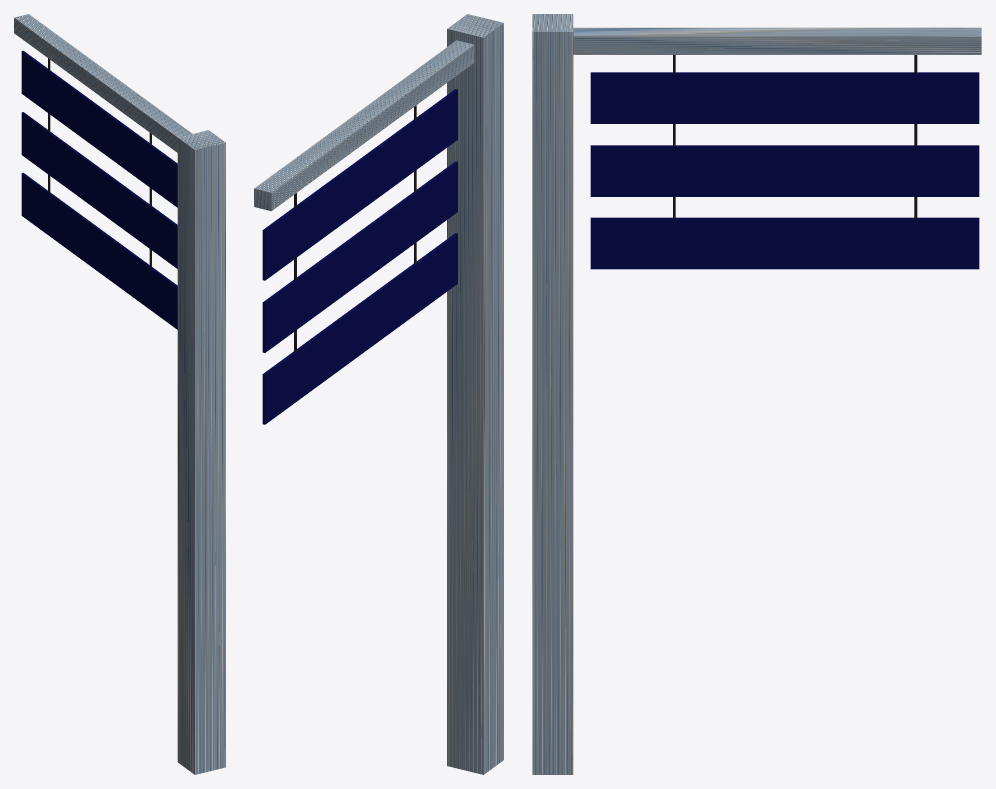
Rendered from plang nama jalan 3.fbx.
The picture shows the model from 3 angles, left to right: view 1: azimuth 30°, elevation 25°; view 2: azimuth 150°, elevation 25°; view 3: azimuth 270°, elevation 25°; orthographic projection. The views are drawn at different scales.
Visible parts, largest first — view 1: Cube, Cube.001, Cube.003, Cube.004, Cube.002; view 2: Cube, Cube.001, Cube.004, Cube.003, Cube.002; view 3: Cube, Cube.004, Cube.001, Cube.003, Cube.002.
Part boxes in pixels (box(x1,y1,x2,y2)): Cube: box(177, 130, 225, 774); Cube.001: box(21, 50, 177, 207); Cube.003: box(21, 112, 177, 268); Cube.004: box(21, 172, 177, 329); Cube.002: box(14, 14, 192, 152); Cube: box(447, 14, 503, 774); Cube.001: box(262, 89, 457, 280); Cube.004: box(262, 233, 457, 424); Cube.003: box(262, 161, 457, 352); Cube.002: box(254, 40, 474, 211); Cube: box(532, 14, 573, 774); Cube.004: box(590, 217, 979, 269); Cube.001: box(590, 72, 979, 123); Cube.003: box(590, 145, 979, 196); Cube.002: box(573, 27, 981, 54).
Bounding box in the file's own units: 0.0659 × 1.27 × 0.6967.
